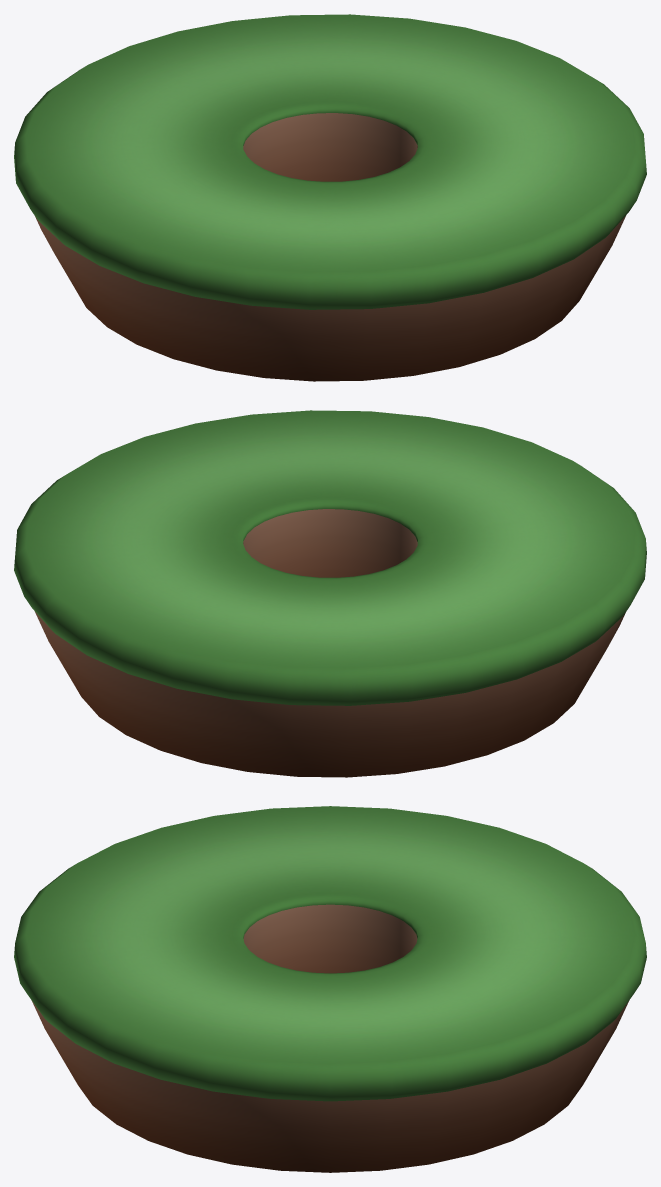
File: MapBase.fbx
3 views of the same model, one above another, from view 1: azimuth 30°, elevation 25°; view 2: azimuth 150°, elevation 25°; view 3: azimuth 270°, elevation 25° (orthographic).
Visible parts, largest first — view 1: Cylinder.001, Cylinder; view 2: Cylinder.001, Cylinder; view 3: Cylinder.001, Cylinder.
Part boxes in pixels (x1,y1,x2,y2): Cylinder.001: [14, 14, 646, 309]; Cylinder: [35, 113, 625, 381]; Cylinder.001: [14, 410, 646, 705]; Cylinder: [35, 509, 625, 777]; Cylinder.001: [14, 806, 646, 1101]; Cylinder: [31, 904, 629, 1172].
Size of the model in its own units: 7238 by 1630 by 7238.
